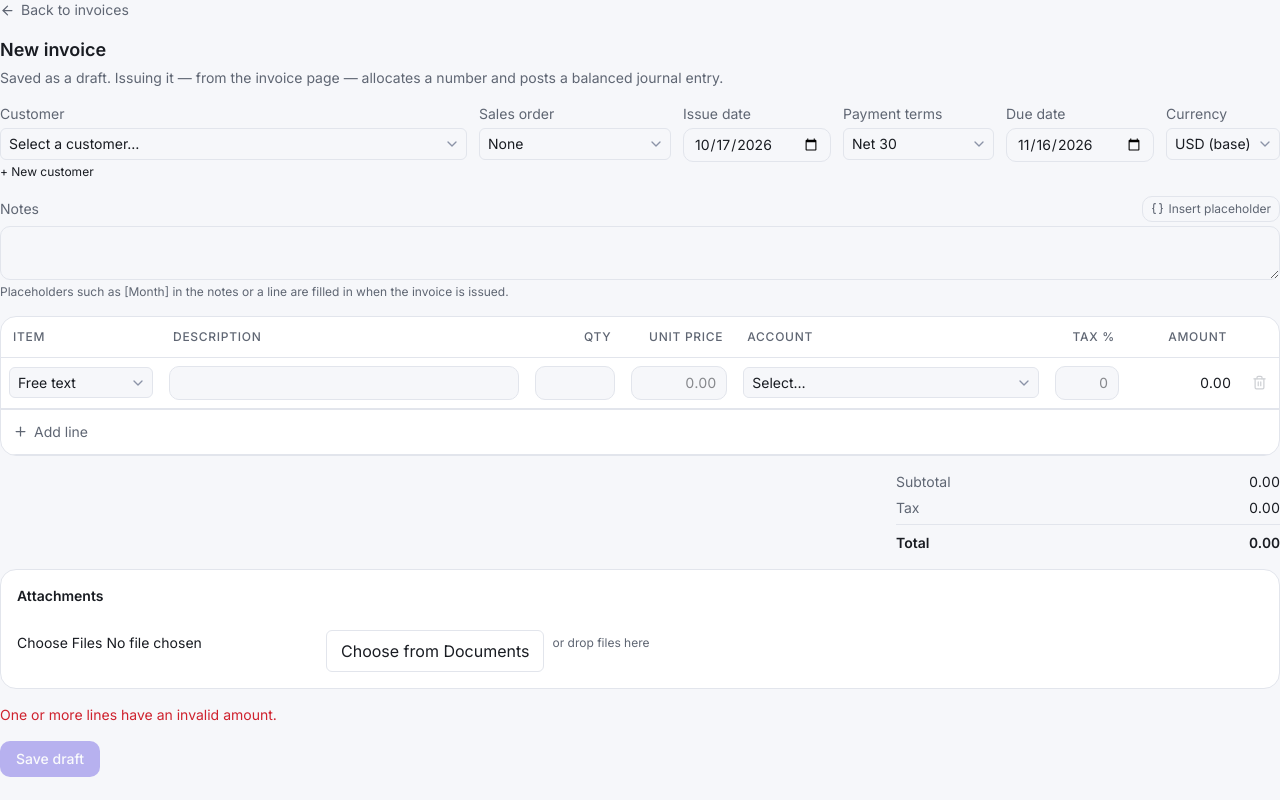
Scenario: quick add from a document line › creates a service from an invoice line, then picks it on that line without saving the invoice
Select "＋ New product or service…" in the dropdown named "Item for line 1" at (81, 383), box x1=9 y1=367 x2=153 y2=398
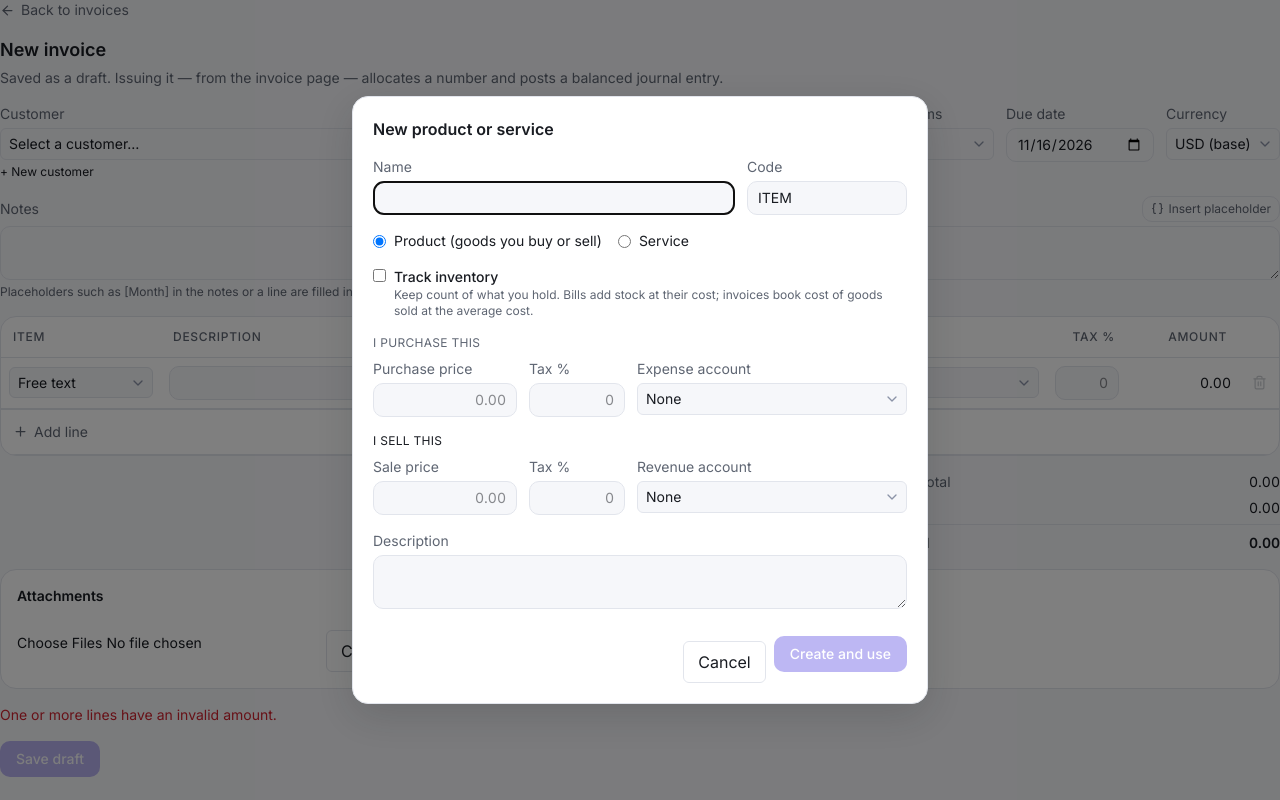
Type "Web design" into the field labelled "Name" at (554, 198), box x1=373 y1=181 x2=735 y2=215
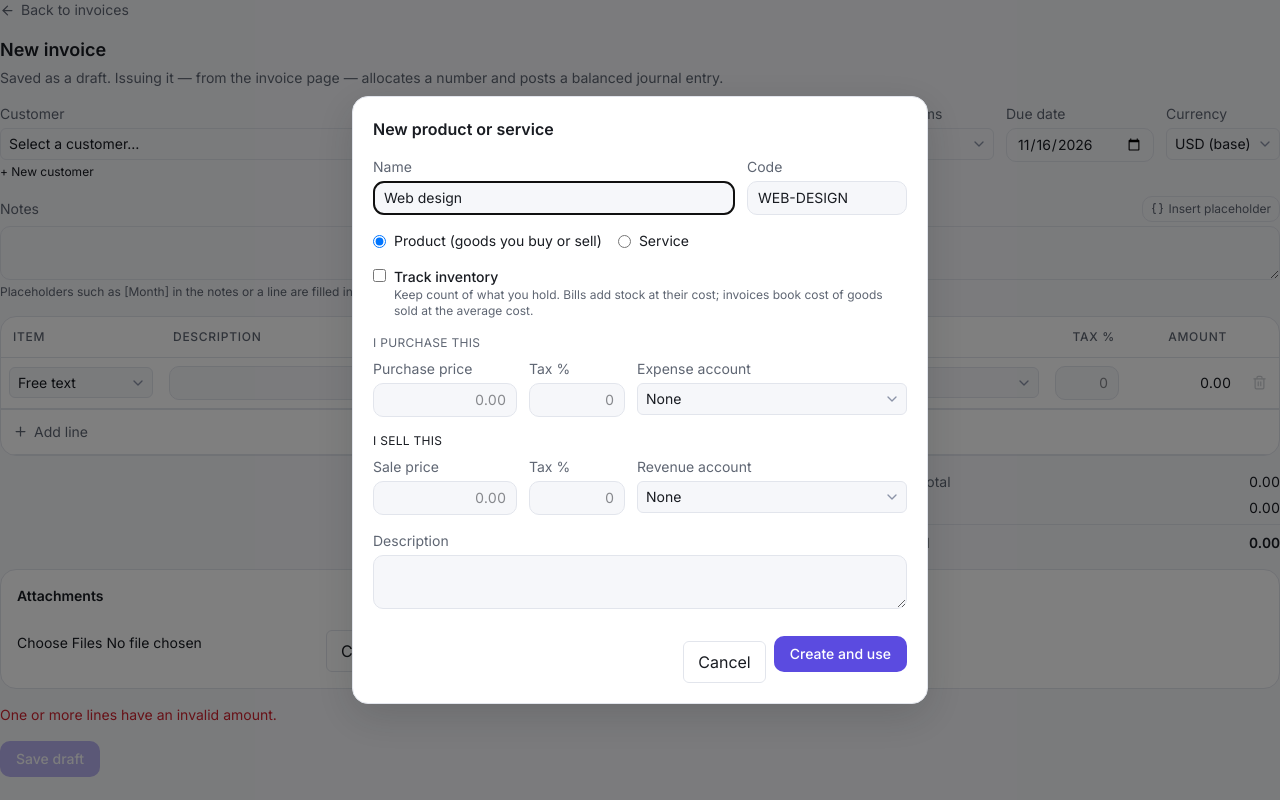
Click the radio button labelled "Service" at (624, 241), box x1=618 y1=234 x2=631 y2=248
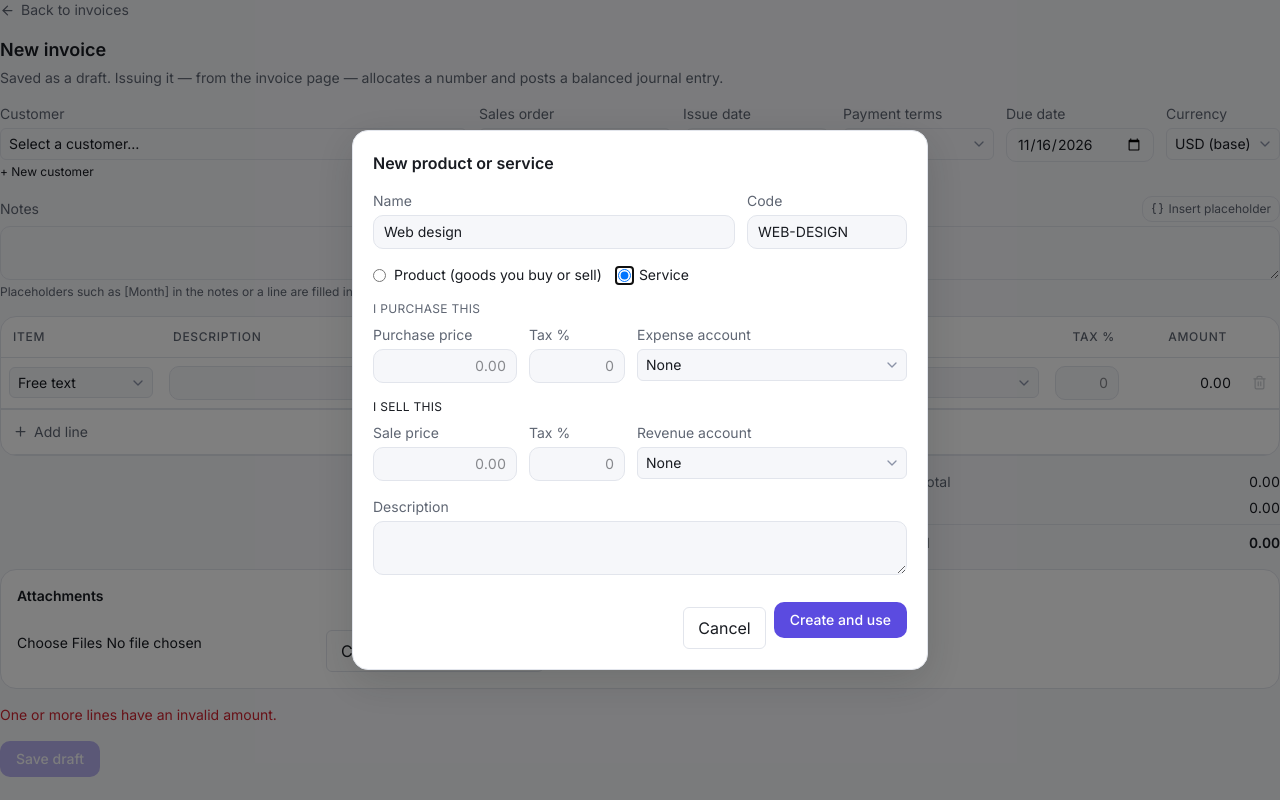
expect the field labelled "Code" holds "WEB-DESIGN": met, box x1=747 y1=215 x2=907 y2=249
Type "120" into the field labelled "Sale price" at (445, 464), box x1=373 y1=447 x2=517 y2=481
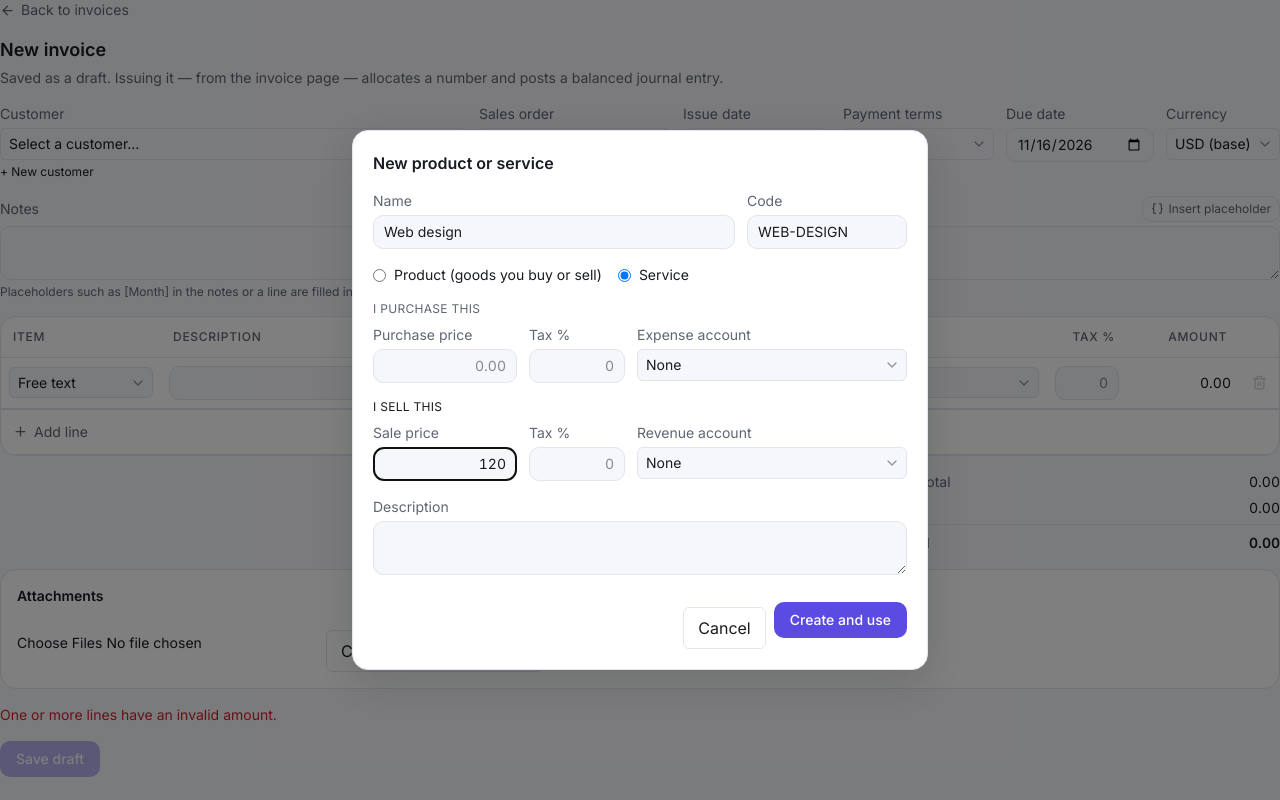
Select "4100 · Product Revenue" in the dropdown labelled "Revenue account" at (772, 463), box x1=637 y1=447 x2=907 y2=479
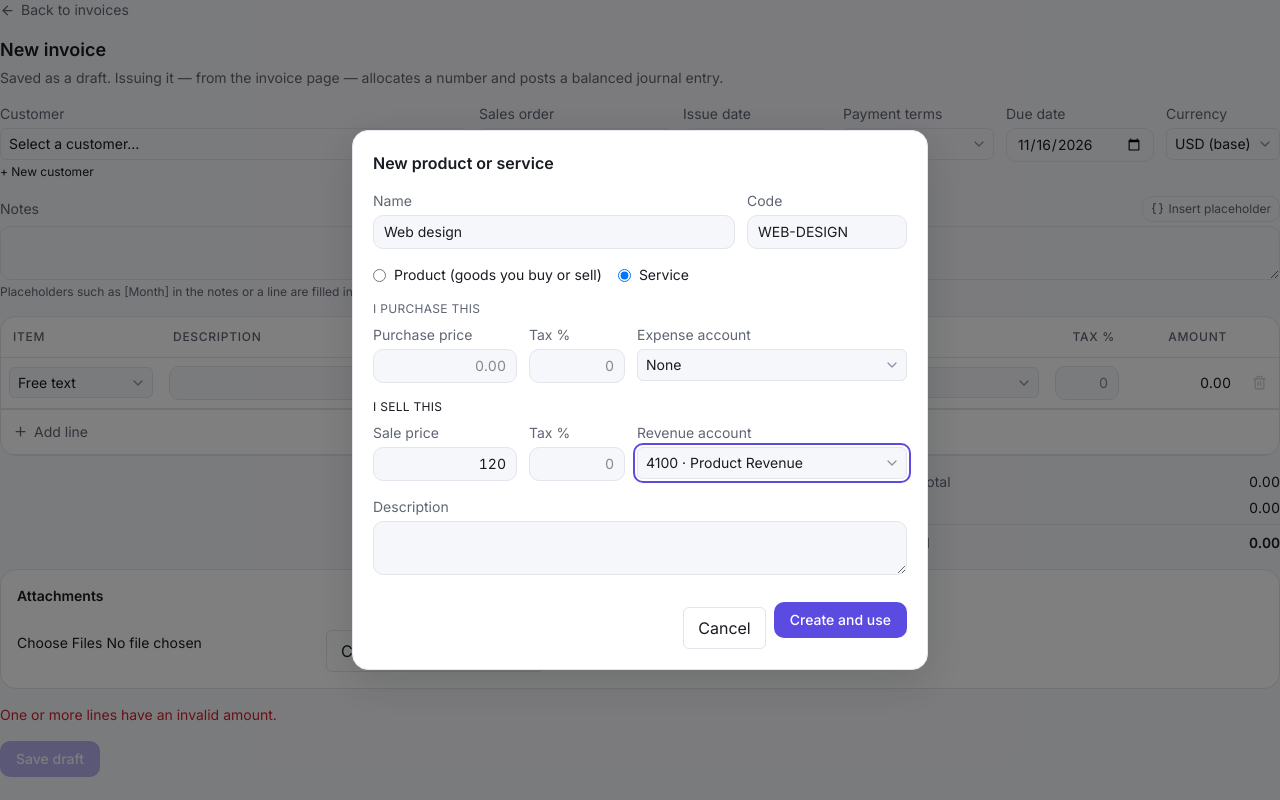
Click the button "Create and use" at (840, 620), box x1=774 y1=602 x2=907 y2=638
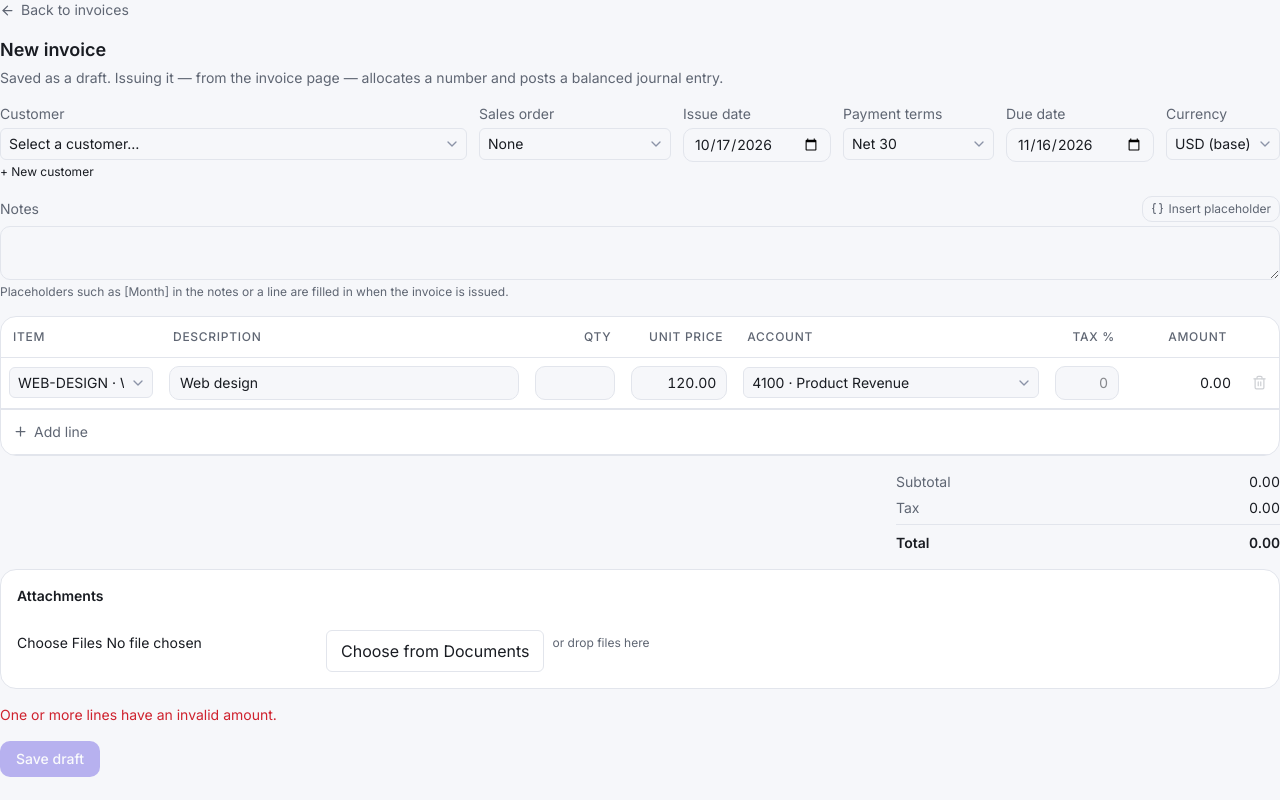
expect the dialog is gone: met
expect the field named "Description for line 1" holds "Web design": met, box x1=169 y1=366 x2=519 y2=400
expect the field named "Unit price for line 1" holds "120.00": met, box x1=631 y1=366 x2=727 y2=400
